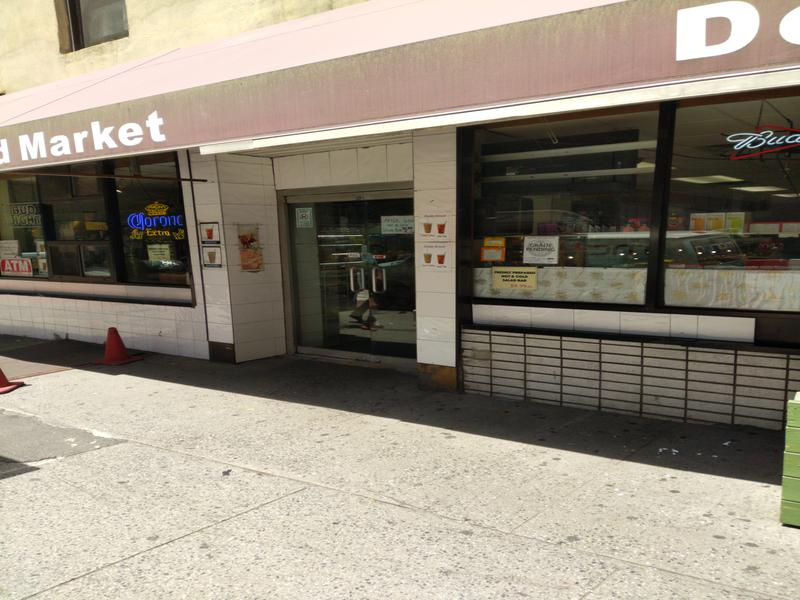double_door: (275, 186, 439, 372)
